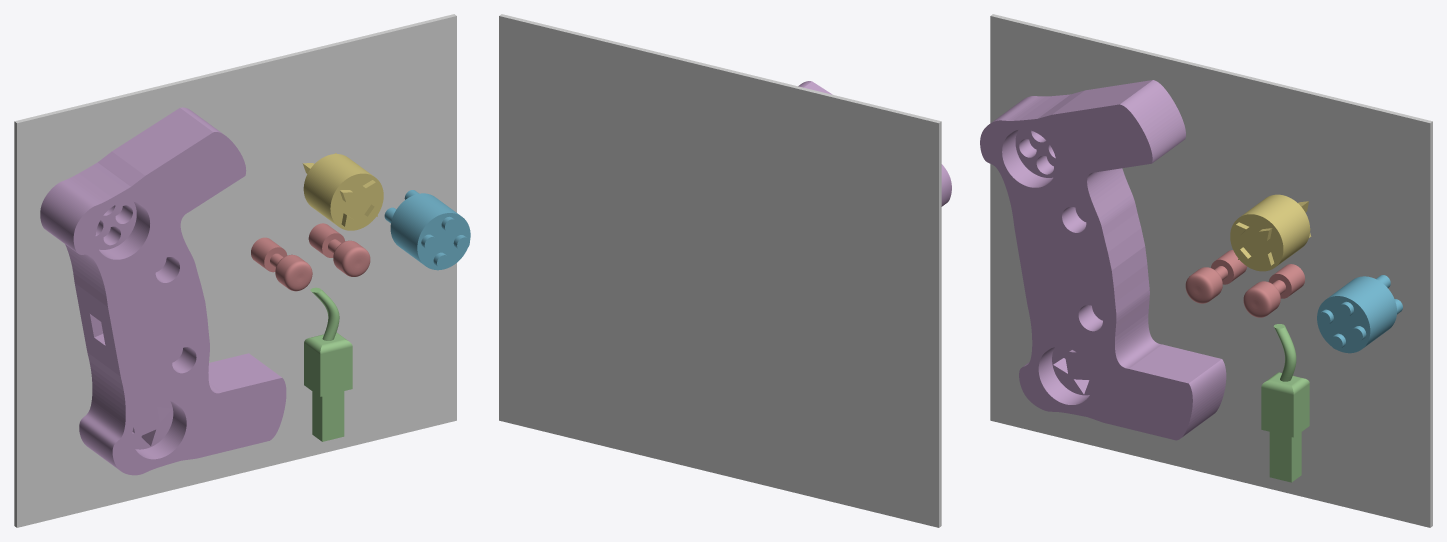
File: pickup_layout.glb
The picture shows the model from 3 angles, left to right: view 1: azimuth 30°, elevation 25°; view 2: azimuth 150°, elevation 25°; view 3: azimuth 330°, elevation 25°; orthographic projection.
Visible parts, largest first — view 1: world, 3.obj, 4.obj, 2.obj, 1.obj, 0.obj, 5.obj; view 2: world, 3.obj; view 3: world, 3.obj, 4.obj, 2.obj, 1.obj, 0.obj, 5.obj.
Part boxes in pixels (left/top/right/bottom): world: left=14, top=14, right=456, bottom=527; 3.obj: left=40, top=107, right=286, bottom=475; 4.obj: left=304, top=287, right=352, bottom=441; 2.obj: left=384, top=190, right=470, bottom=270; 1.obj: left=302, top=153, right=383, bottom=230; 0.obj: left=308, top=223, right=370, bottom=276; 5.obj: left=251, top=237, right=312, bottom=291; world: left=499, top=14, right=941, bottom=527; 3.obj: left=798, top=81, right=951, bottom=206; world: left=990, top=14, right=1432, bottom=527; 3.obj: left=980, top=80, right=1226, bottom=440; 4.obj: left=1261, top=324, right=1309, bottom=482; 2.obj: left=1317, top=275, right=1402, bottom=353; 1.obj: left=1230, top=194, right=1311, bottom=271; 0.obj: left=1243, top=264, right=1305, bottom=317; 5.obj: left=1185, top=250, right=1247, bottom=303.
Bounding box in the file's own units: 18.99 × 16.7 × 3.2.
